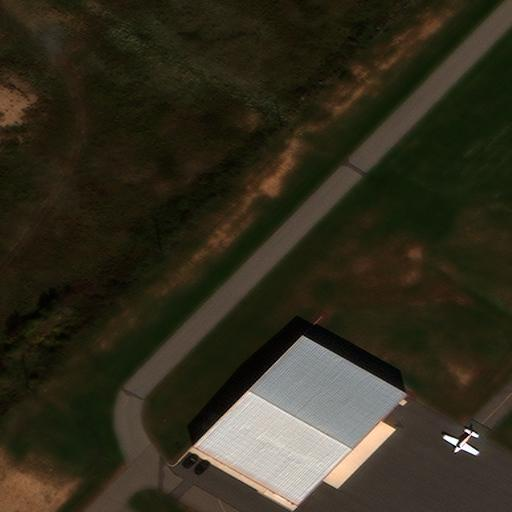Small Civil Transport: (442, 430, 476, 456)
